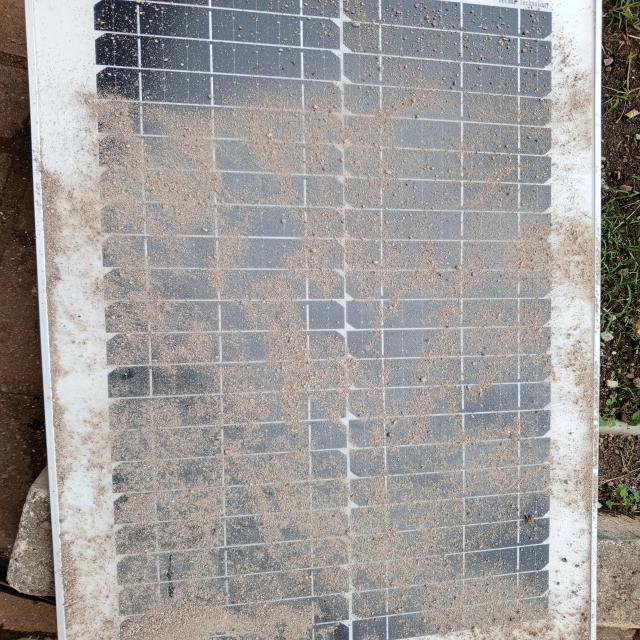Surface Contaminant: (67, 11, 580, 635)
